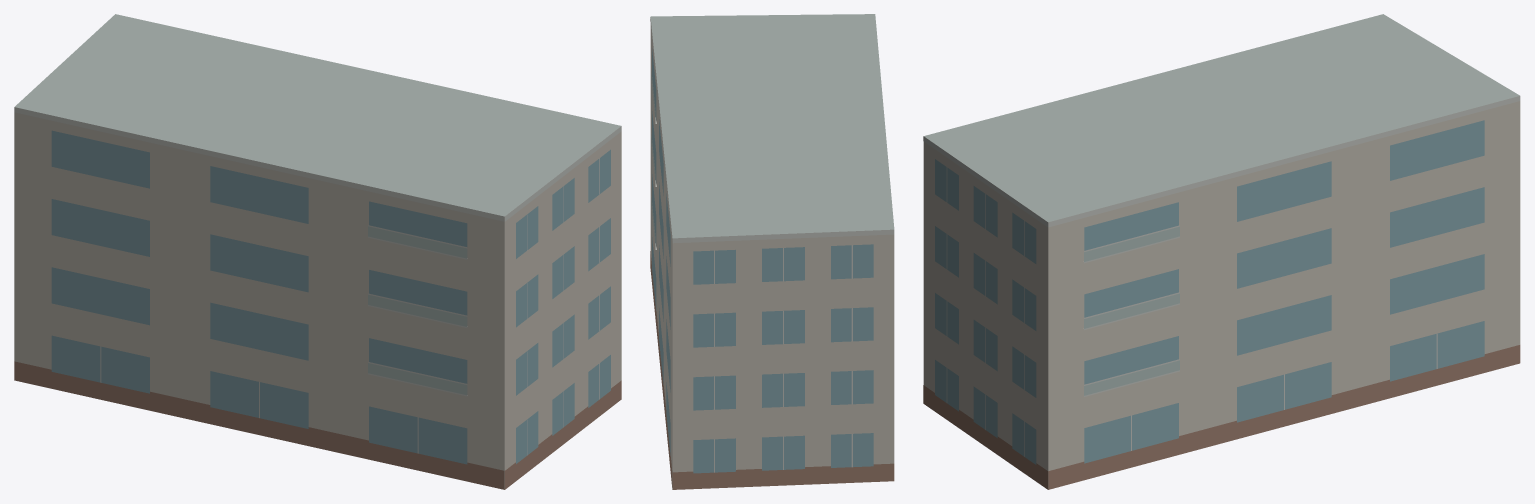
Rendered from survey-upis-32997577.glb.
The picture shows the model from 3 angles, left to right: view 1: azimuth 30°, elevation 25°; view 2: azimuth 150°, elevation 25°; view 3: azimuth 270°, elevation 25°; orthographic projection. The views are drawn at different scales.
Visible parts, largest first — view 1: survey-upis-32997577.tmp; view 2: survey-upis-32997577.tmp; view 3: survey-upis-32997577.tmp.
Boxes of the visible parts, x1=… form: survey-upis-32997577.tmp: x1=14, y1=14, x2=621, y2=489; survey-upis-32997577.tmp: x1=650, y1=14, x2=894, y2=489; survey-upis-32997577.tmp: x1=923, y1=14, x2=1520, y2=489.
Size of the model in its own units: 21.14 by 12.65 by 25.58.
